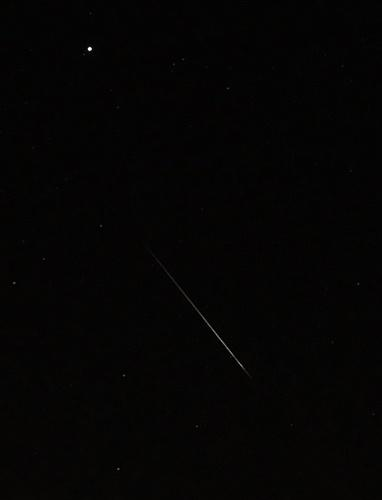meteor: (228, 354, 259, 373)
